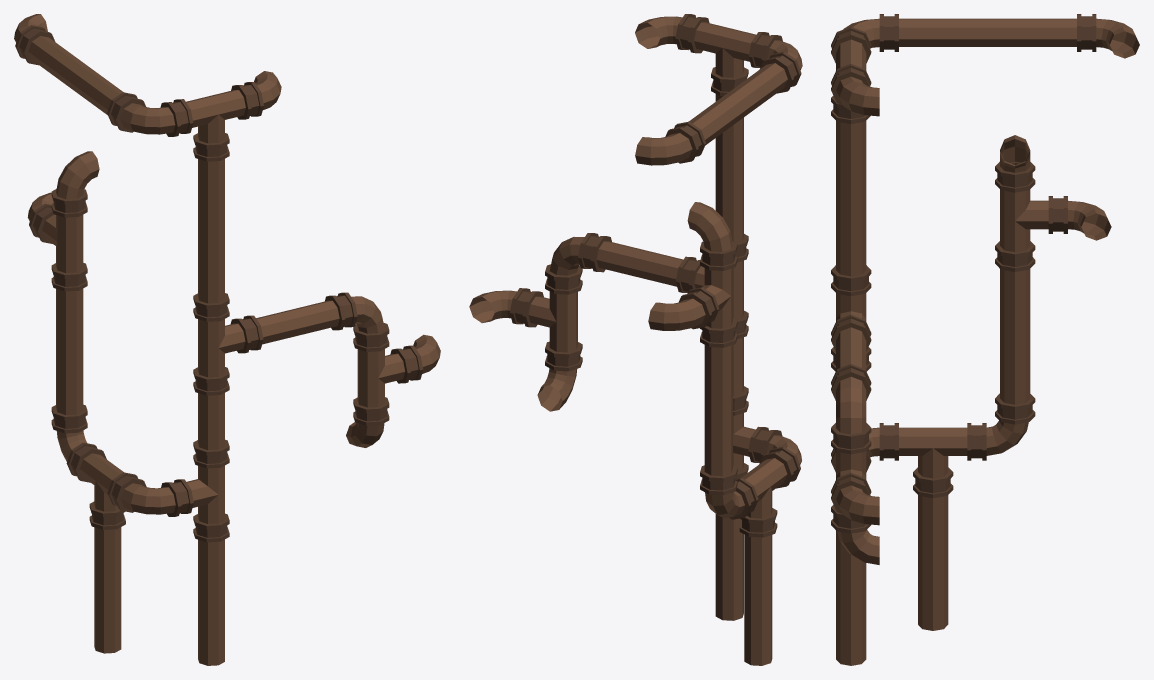
The model's file is SM_Prop_Pipe_Present_02.fbx.
The picture shows the model from 3 angles, left to right: view 1: azimuth 30°, elevation 25°; view 2: azimuth 150°, elevation 25°; view 3: azimuth 270°, elevation 25°; orthographic projection. The views are drawn at different scales.
Visible parts, largest first — view 1: SM_Prop_Pipe_Present_02; view 2: SM_Prop_Pipe_Present_02; view 3: SM_Prop_Pipe_Present_02.
Boxes of the visible parts, x1=… form: SM_Prop_Pipe_Present_02: x1=14, y1=14, x2=440, y2=665; SM_Prop_Pipe_Present_02: x1=469, y1=14, x2=802, y2=665; SM_Prop_Pipe_Present_02: x1=831, y1=14, x2=1139, y2=665.
Size of the model in its own units: 407 by 691 by 317.
